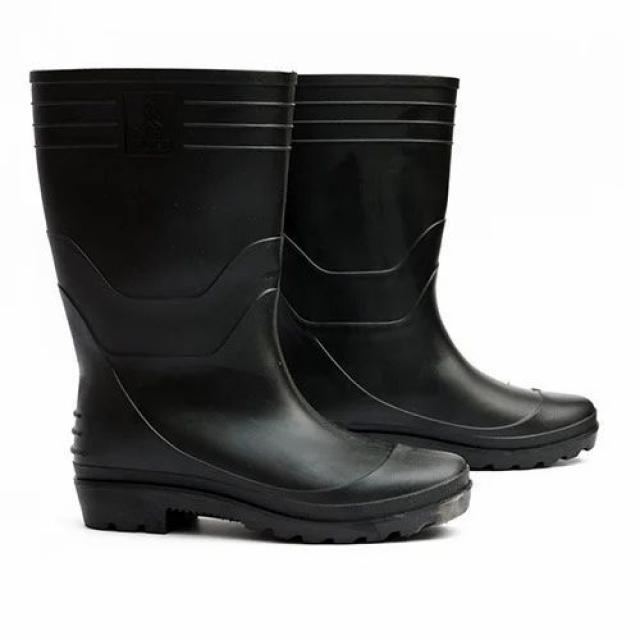boot: (12, 53, 479, 520), (282, 31, 609, 466)
